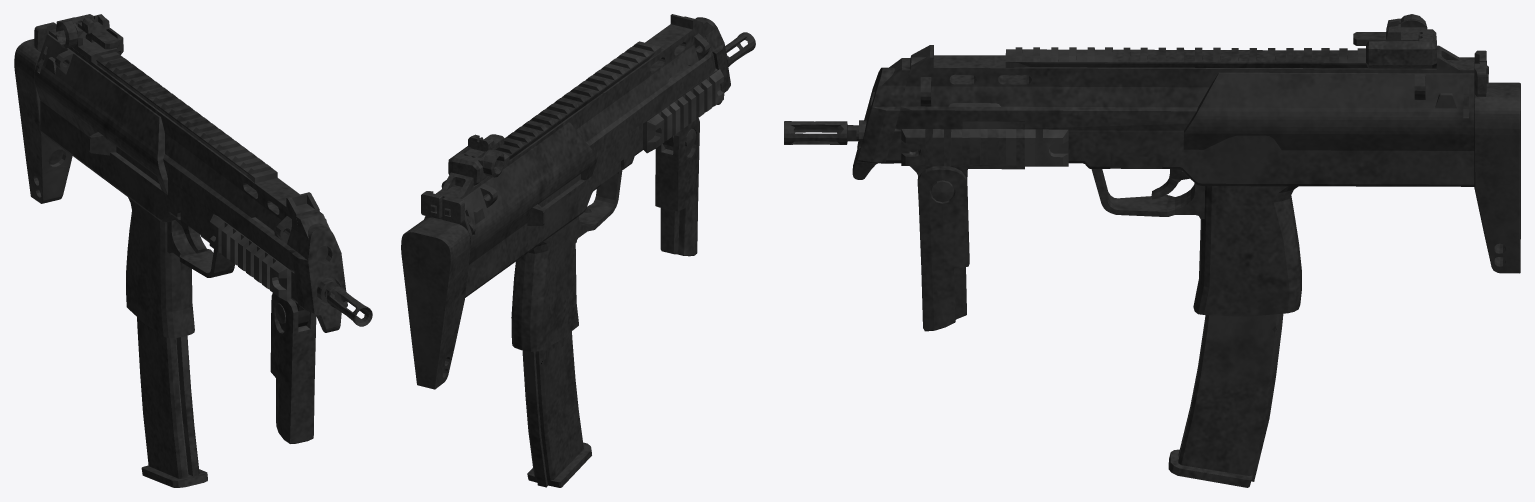
The model's file is UZI.fbx.
The picture shows the model from 3 angles, left to right: view 1: azimuth 30°, elevation 25°; view 2: azimuth 150°, elevation 25°; view 3: azimuth 270°, elevation 25°; orthographic projection. The views are drawn at different scales.
Visible parts, largest first — view 1: GR_CEM_SM_Gun_1ST.025, GR_CEM_SM_Gun_1ST.000; view 2: GR_CEM_SM_Gun_1ST.025, GR_CEM_SM_Gun_1ST.000; view 3: GR_CEM_SM_Gun_1ST.025, GR_CEM_SM_Gun_1ST.000.
Boxes of the visible parts, box(x1,y1,x2,y2) form: GR_CEM_SM_Gun_1ST.025: box(14, 14, 372, 443); GR_CEM_SM_Gun_1ST.000: box(137, 317, 207, 487); GR_CEM_SM_Gun_1ST.025: box(401, 14, 755, 389); GR_CEM_SM_Gun_1ST.000: box(522, 331, 591, 487); GR_CEM_SM_Gun_1ST.025: box(784, 14, 1520, 331); GR_CEM_SM_Gun_1ST.000: box(1168, 313, 1283, 487).
Size of the model in its own units: 0.6299 by 3.76 by 5.5.
